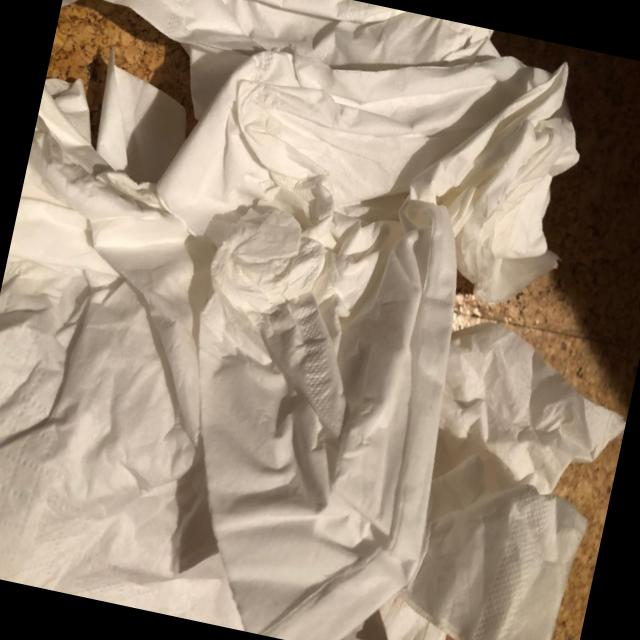organic waste: (123, 159, 495, 640), (0, 26, 275, 613), (147, 0, 605, 333), (363, 306, 640, 640), (60, 0, 503, 95)
